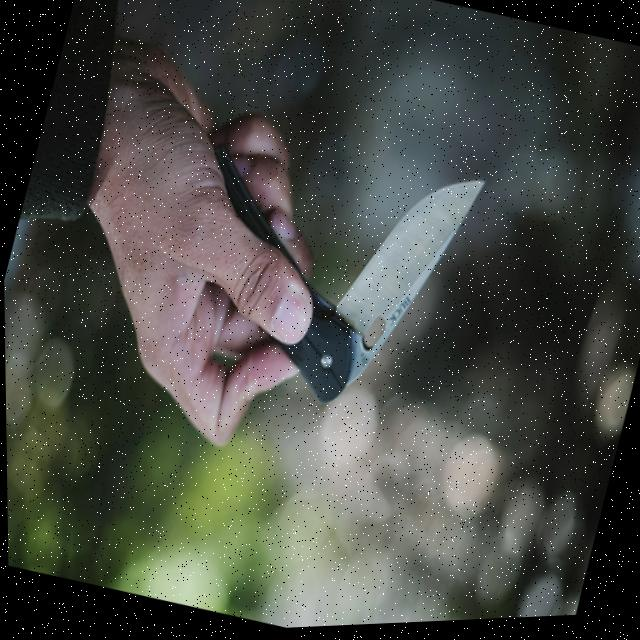knife: (265, 136, 502, 467)
